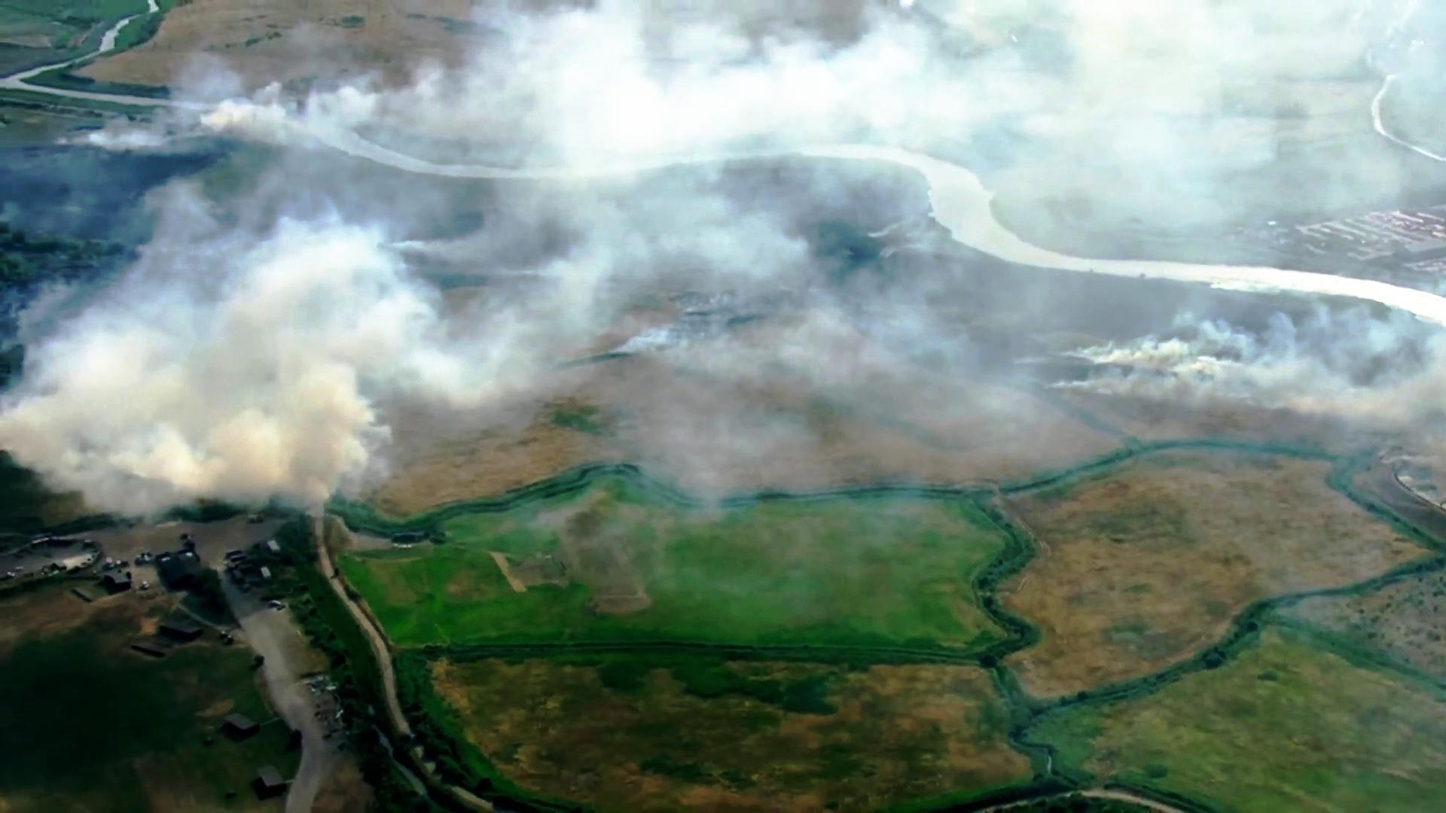smoke: (88, 283, 379, 467)
